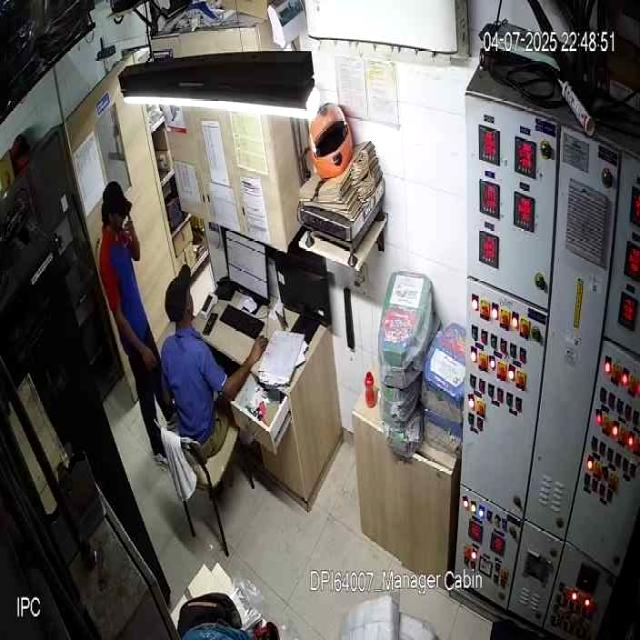helmet: (307, 101, 353, 181)
